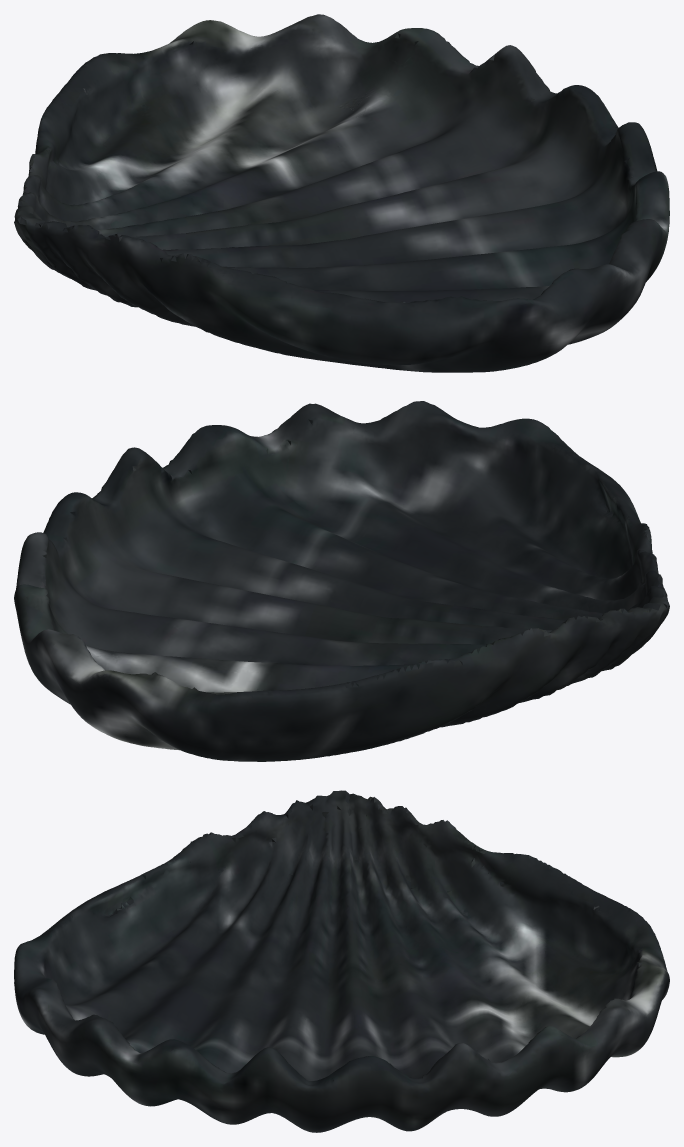
3 renders of one model, top to bottom at view 1: azimuth 30°, elevation 25°; view 2: azimuth 150°, elevation 25°; view 3: azimuth 270°, elevation 25°, orthographic. The views are drawn at different scales.
Parts seen in each view (by area): view 1: rakushka-01; view 2: rakushka-01; view 3: rakushka-01.
Boxes of the visible parts, box(x1,y1,x2,y2) form: rakushka-01: box(14, 14, 669, 372); rakushka-01: box(14, 401, 669, 761); rakushka-01: box(14, 790, 669, 1132).
Bounding box in the file's own units: 0.1841 × 0.0399 × 0.1996.
Materials: 1 (1 with a texture image).
